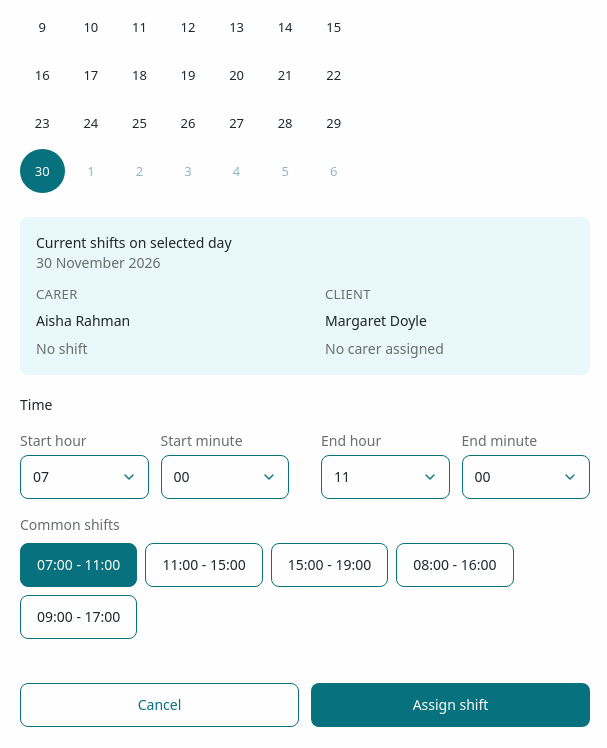
Test case: Admin Manage › [ADM-UI-02][AC-03] a first assignment shows only the success message, and a repeat warns
(page scrolled)
Click the button "Assign shift" at (450, 705), box x1=311 y1=683 x2=590 y2=727
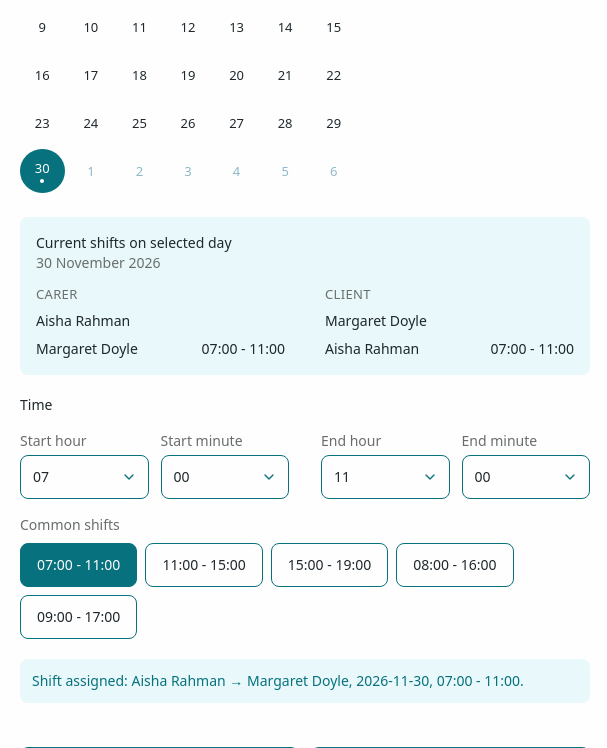
Expected: the message shows "Shift assigned", x1=32 y1=671 x2=524 y2=690
Click the button "11:00 - 15:00" at (204, 565), box x1=145 y1=543 x2=263 y2=587
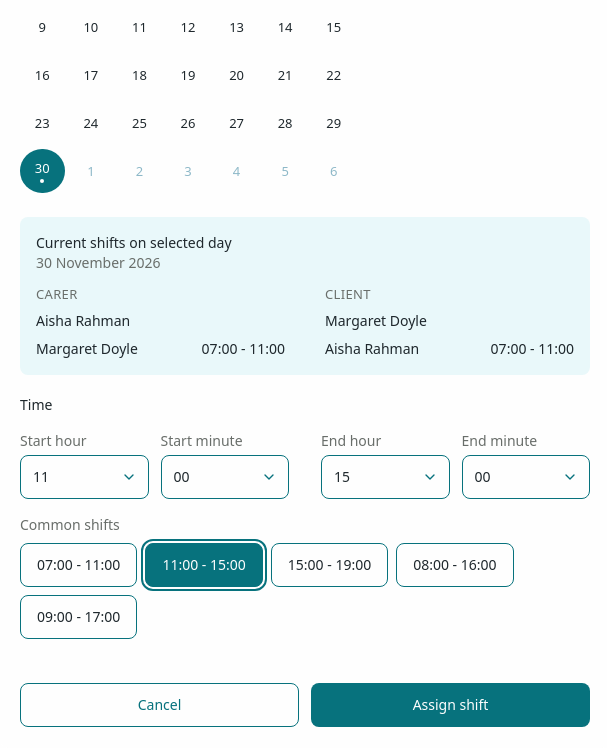
Expected: the message "Shift assigned: Aisha Rahman → Margaret Doyle, 2026-11-30, 07:00 - 11:00." is gone
Click the button "07:00 - 11:00" at (79, 565), box x1=20 y1=543 x2=137 y2=587
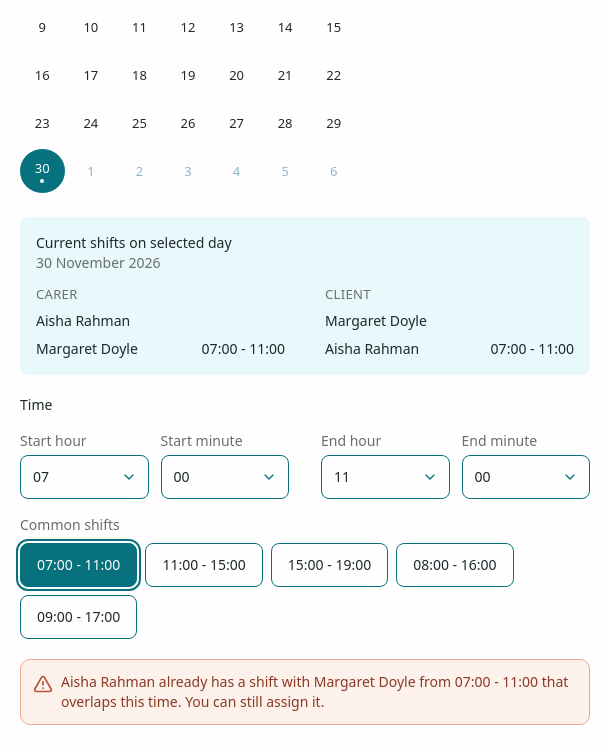
Expected: the message shows "07:00 - 11:00", x1=61 y1=672 x2=568 y2=711
